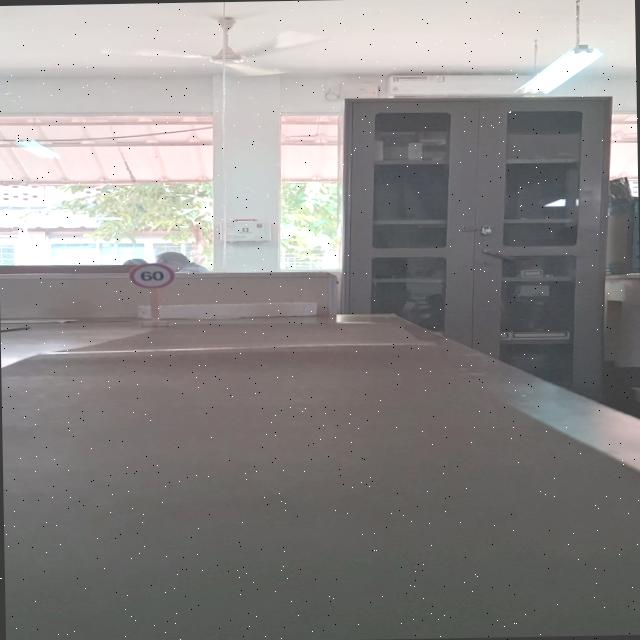Speed60: (126, 262, 176, 290)
